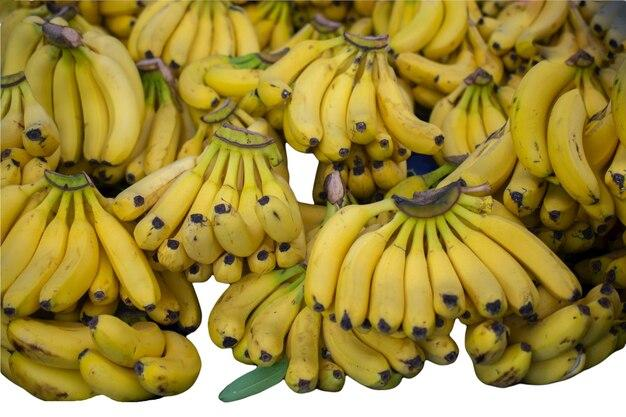non-mango: (6, 10, 624, 163), (2, 145, 198, 402), (305, 170, 574, 352), (195, 99, 311, 399)
